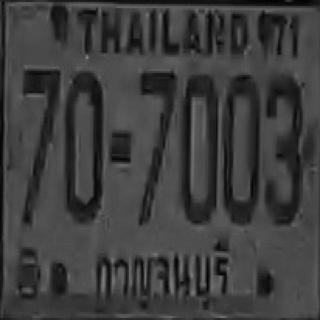N00: (179, 73, 218, 221), (64, 70, 102, 220), (222, 73, 259, 223)
N03: (263, 74, 305, 224)
N07: (137, 72, 175, 224), (138, 70, 176, 183), (23, 67, 60, 156)
P17: (90, 233, 235, 317)
